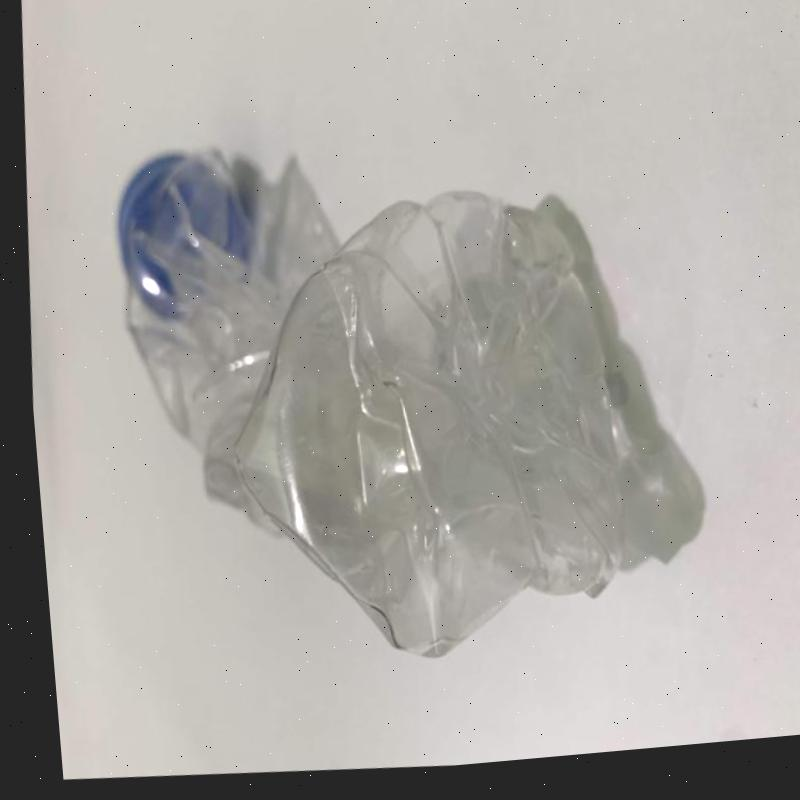botella: (79, 90, 734, 704)
